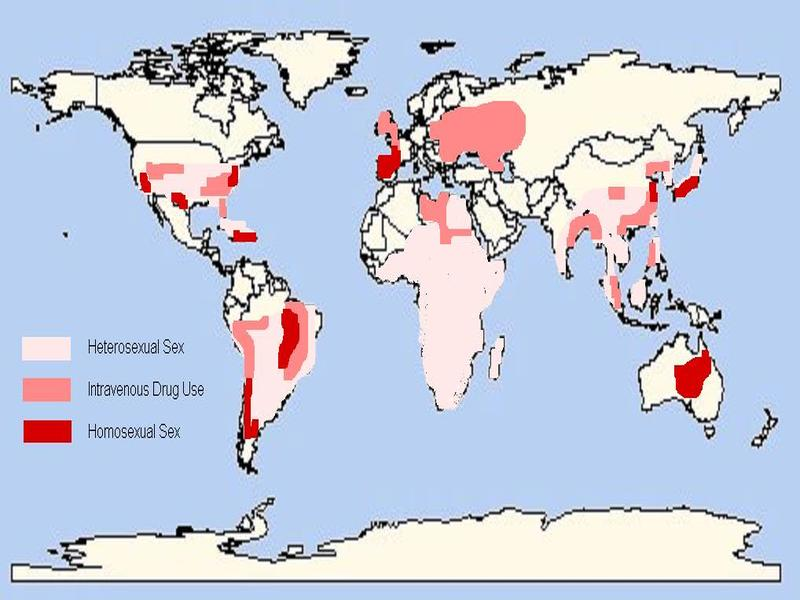legend: (18, 333, 209, 447)
